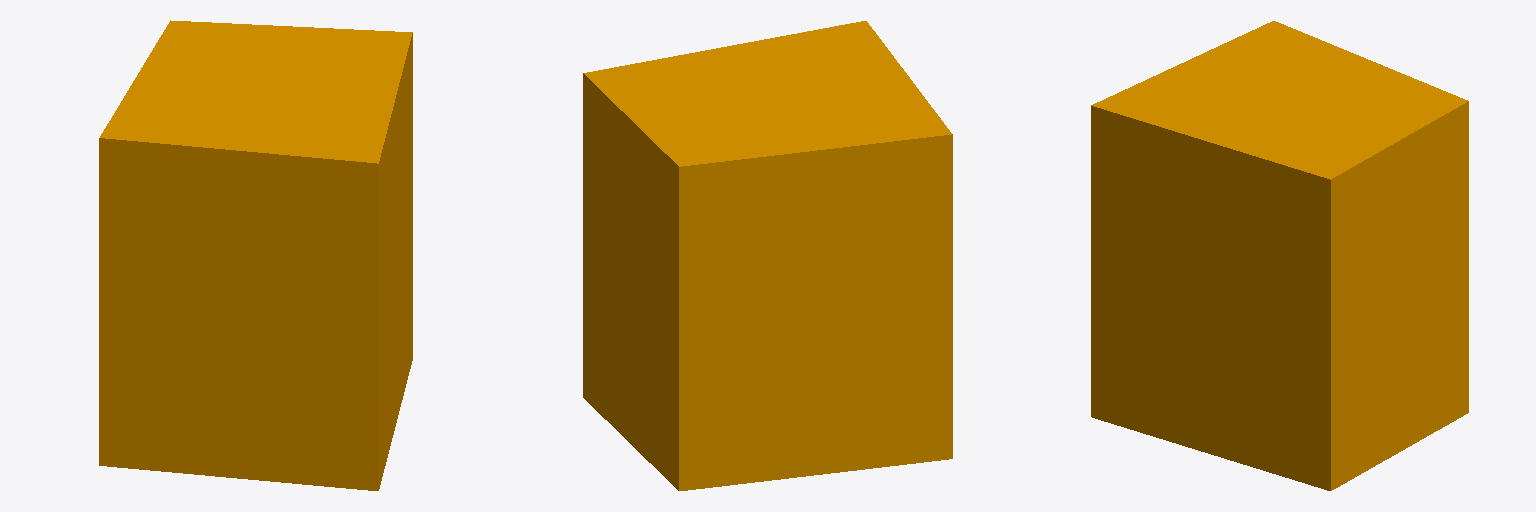
robot.urdf — object:
<?xml version="1.0"?>
<robot name="object">
  <link name="object">
    <visual>
      <origin xyz="0 0 0"/>
      <geometry>
        <mesh filename="meshes/generated/col_118.obj" scale="0.03 0.03 0.03"/>
      </geometry>
    </visual>
    <collision>
      <origin xyz="0 0 0"/>
      <geometry>
        <mesh filename="meshes/generated/col_118.obj" scale="0.03 0.03 0.03"/>
      </geometry>
    </collision>
    <inertial>
      <density value="1000.0"/>
    </inertial>
  </link>
</robot>

--- Facts derived from the render (not from the file) ---
The picture shows the robot from 3 angles, left to right: view 1: azimuth 30°, elevation 25°; view 2: azimuth 150°, elevation 25°; view 3: azimuth 270°, elevation 25°; orthographic projection.
Robot: object — 1 links, 0 joints (none); root link object; default pose: every joint at zero.
Visible links, largest first — view 1: object; view 2: object; view 3: object.
Boxes of the visible links, x1,y1,x2,y2 form: object: (99, 20, 412, 490); object: (583, 21, 952, 490); object: (1091, 21, 1468, 490).
Bounding box of the posed robot: 0.0657 × 0.0659 × 0.06 m (x, y, z).
1 mesh visuals loaded from 1 distinct referenced files (1 OBJ).
